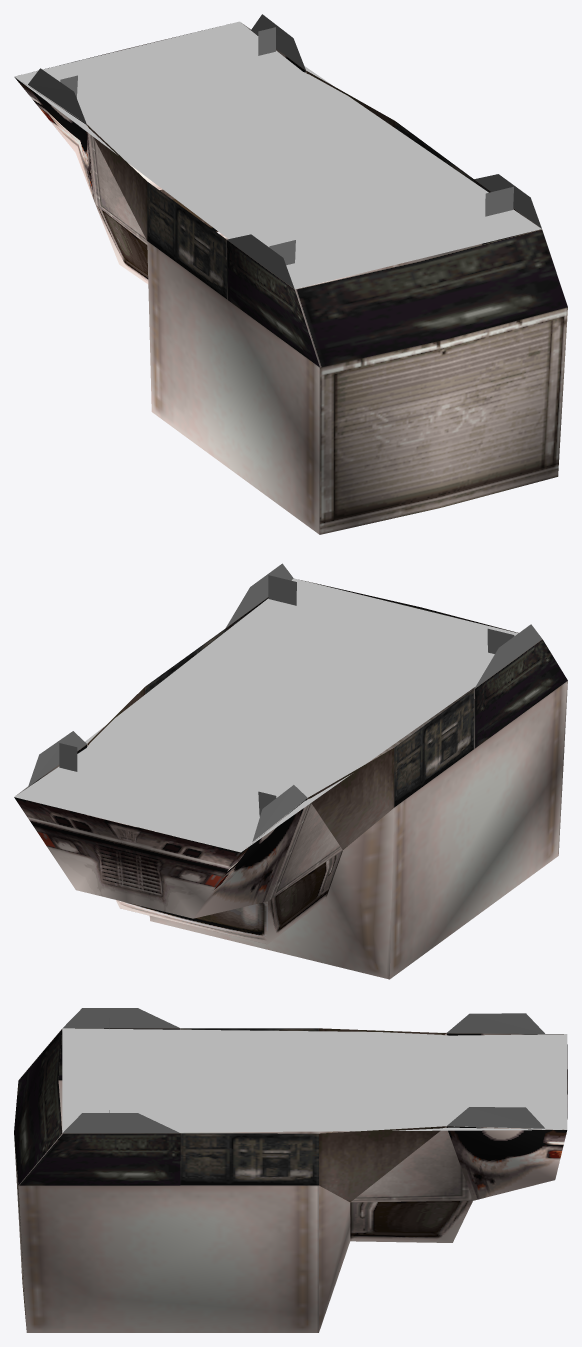
The model's file is VEGAS_model10_low.obj.
3 renders of one model, top to bottom at view 1: azimuth 30°, elevation 25°; view 2: azimuth 150°, elevation 25°; view 3: azimuth 270°, elevation 25°, orthographic. The views are drawn at different scales.
Parts seen in each view (by area): view 1: VEGAS_model10_low; view 2: VEGAS_model10_low; view 3: VEGAS_model10_low.
Part boxes in pixels (bbox=[...]): VEGAS_model10_low: bbox=[14, 14, 567, 534]; VEGAS_model10_low: bbox=[14, 563, 567, 979]; VEGAS_model10_low: bbox=[14, 1008, 567, 1332].
Size of the model in its own units: 391 by 384 by 870.
